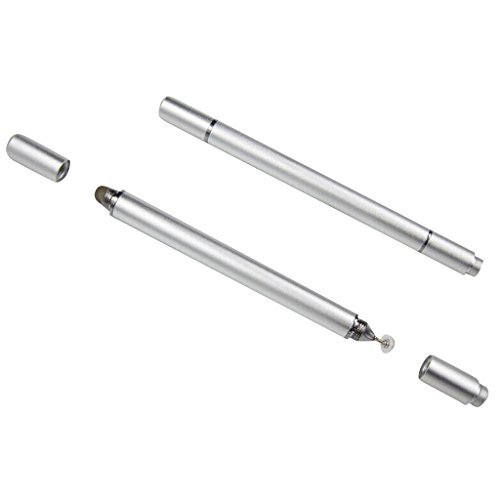Boligrafo: (152, 89, 490, 277), (93, 181, 406, 352)
